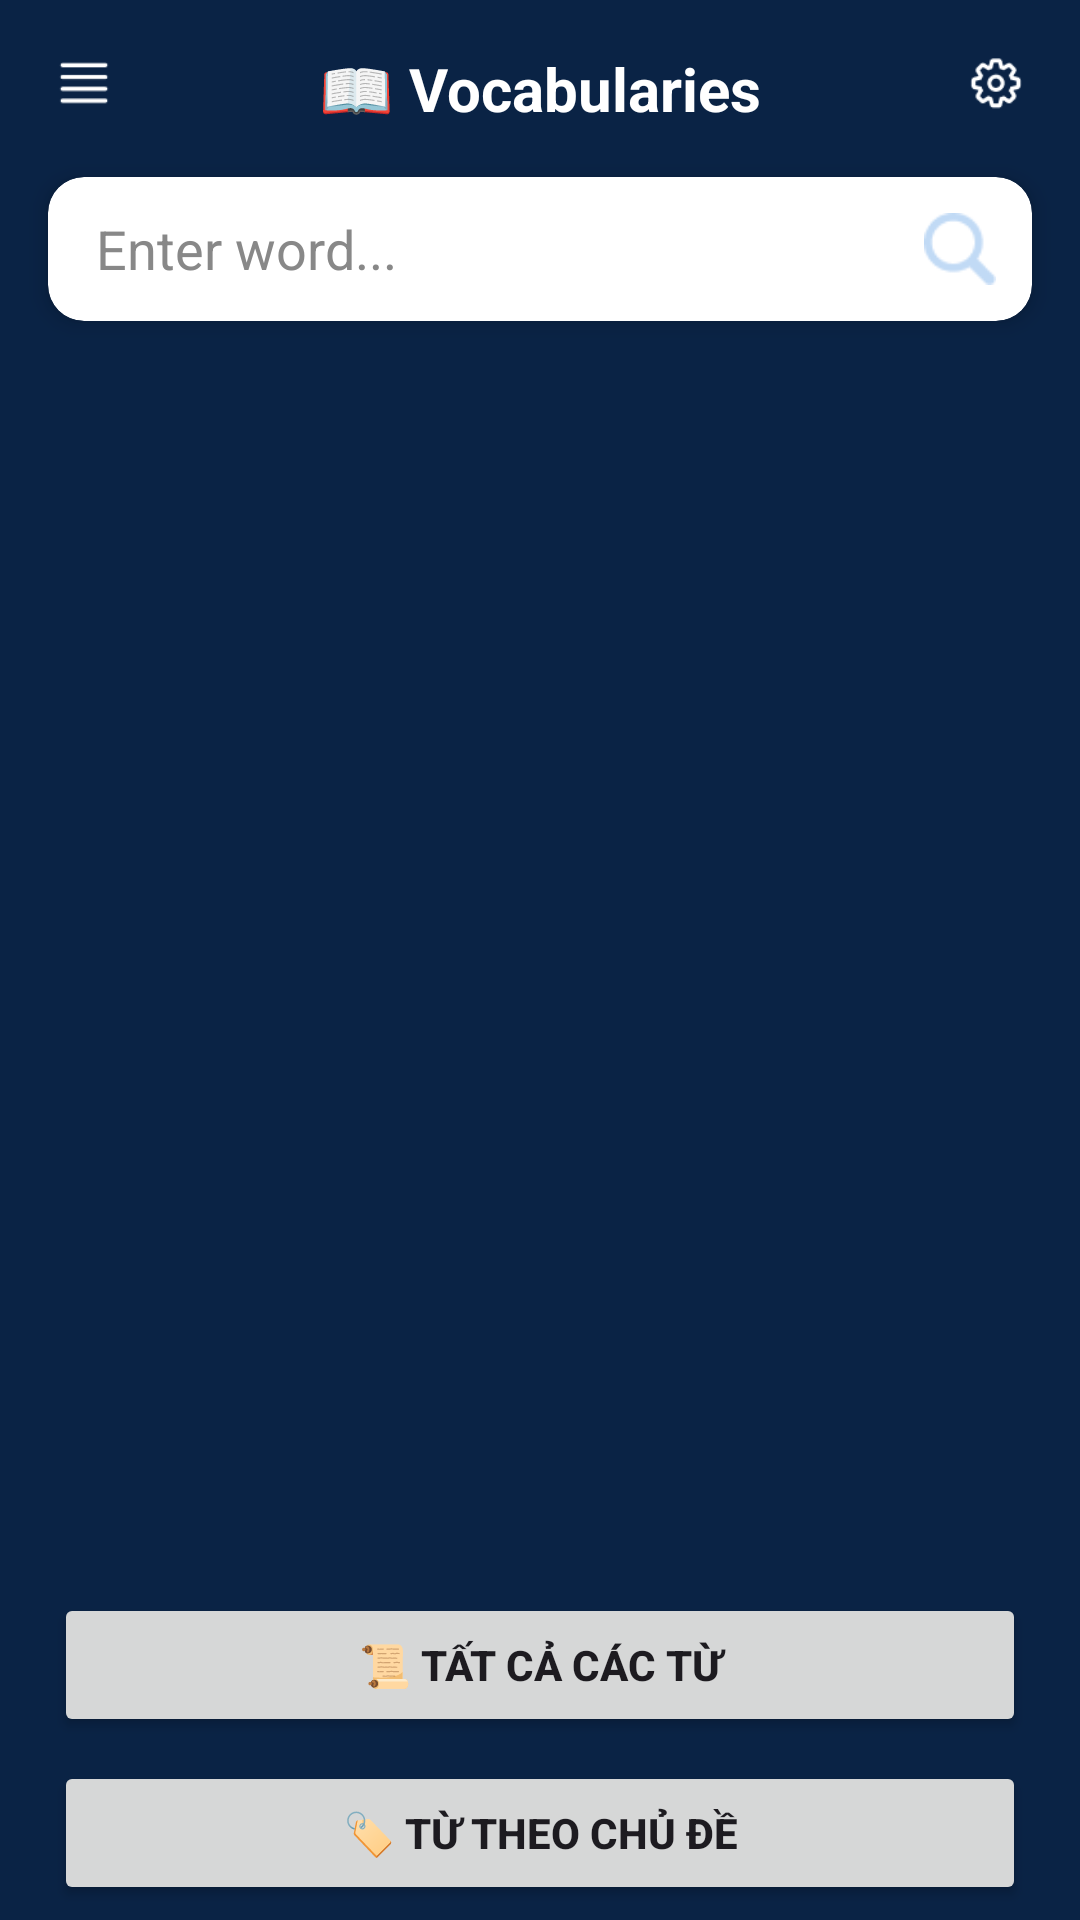

Named icons in this screenshot (1080*1920) and their bounding boxes, (x1, y1, x2, y2):
menu: (60, 62, 108, 104)
search: (924, 213, 996, 285)
setting: (971, 58, 1021, 109)
